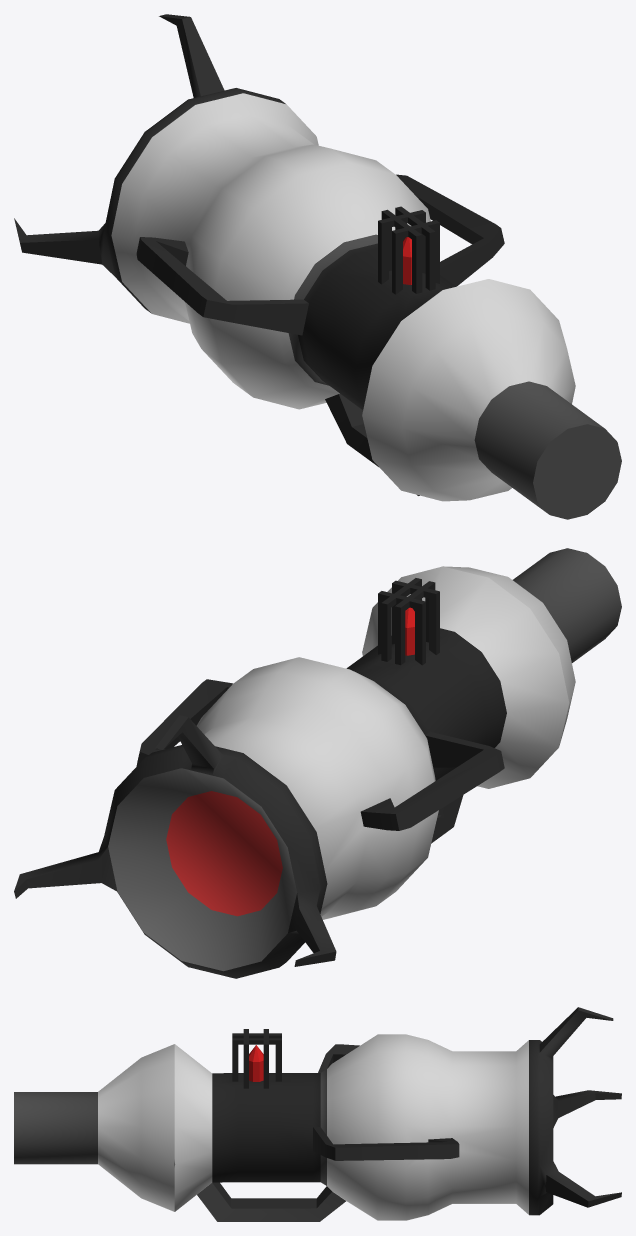
The model's file is physics_gun.FBX.
3 views of the same model, one above another, from view 1: azimuth 30°, elevation 25°; view 2: azimuth 150°, elevation 25°; view 3: azimuth 270°, elevation 25° (orthographic). The views are drawn at different scales.
Visible parts, largest first — view 1: physics_gun; view 2: physics_gun; view 3: physics_gun.
Part boxes in pixels (bbox=[...]): physics_gun: bbox=[14, 14, 621, 519]; physics_gun: bbox=[14, 548, 621, 978]; physics_gun: bbox=[14, 1007, 621, 1221].
Size of the model in its own units: 59.07 by 51.72 by 137.
Materials: 1 (1 with a texture image).
